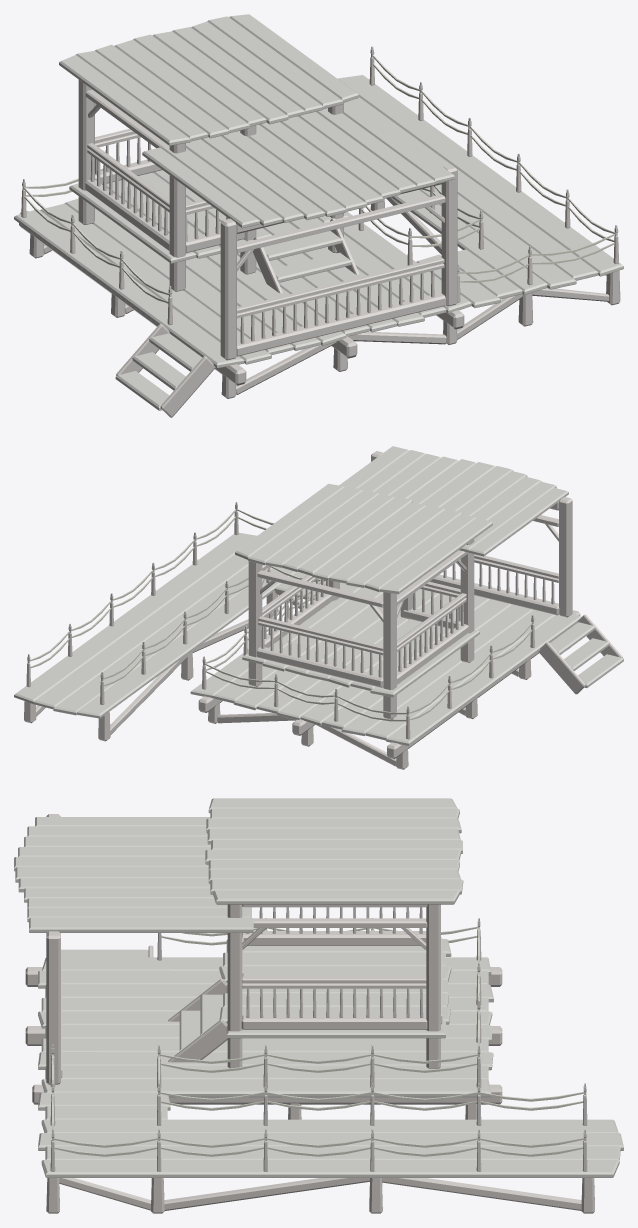
File: farmstractures_15.gltf
3 views of the same model, one above another, from view 1: azimuth 30°, elevation 25°; view 2: azimuth 150°, elevation 25°; view 3: azimuth 270°, elevation 25° (orthographic). The views are drawn at different scales.
Parts seen in each view (by area): view 1: body, blades; view 2: body, blades; view 3: body, blades.
Part boxes in pixels (left/top/right/bottom): body: left=14, top=46, right=623, bottom=417; blades: left=59, top=14, right=457, bottom=359; body: left=14, top=451, right=623, bottom=769; blades: left=237, top=446, right=572, bottom=718; body: left=14, top=798, right=623, bottom=1213; blades: left=14, top=798, right=462, bottom=1083.
Size of the model in its own units: 8.59 by 3.67 by 9.04.
1 material, 1 textured.
